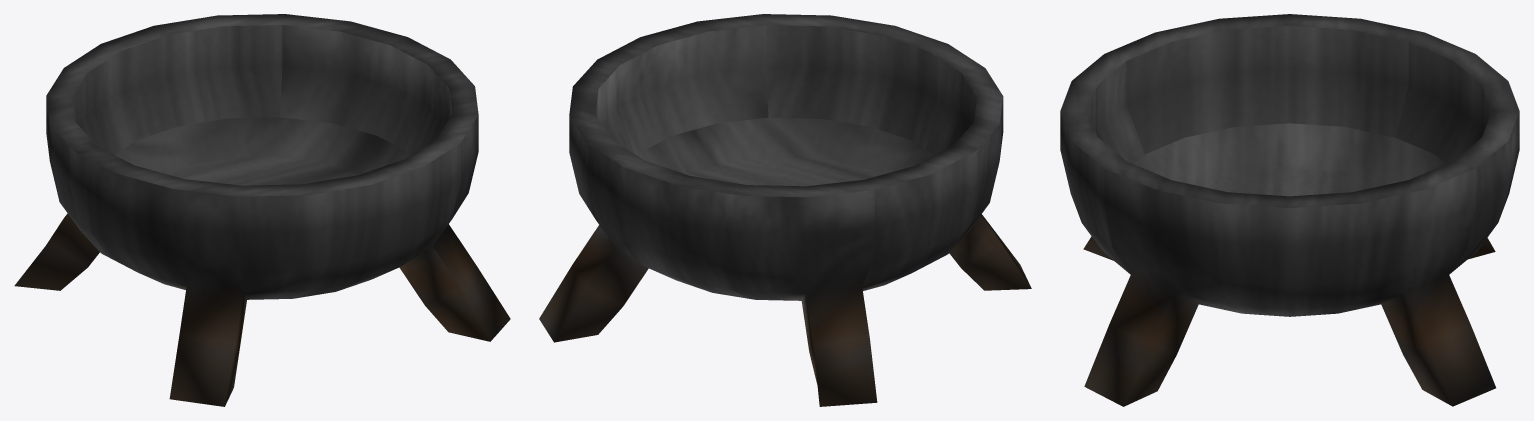
File: bonfire.fbx
The picture shows the model from 3 angles, left to right: view 1: azimuth 30°, elevation 25°; view 2: azimuth 150°, elevation 25°; view 3: azimuth 270°, elevation 25°; orthographic projection. The views are drawn at different scales.
Parts seen in each view (by area): view 1: pCylinder1; view 2: pCylinder1; view 3: pCylinder1.
Part boxes in pixels (x1,y1,x2,y2): pCylinder1: (14, 14, 510, 406); pCylinder1: (539, 14, 1031, 406); pCylinder1: (1060, 14, 1519, 406).
Bounding box in the file's own units: 200 × 100 × 200.
